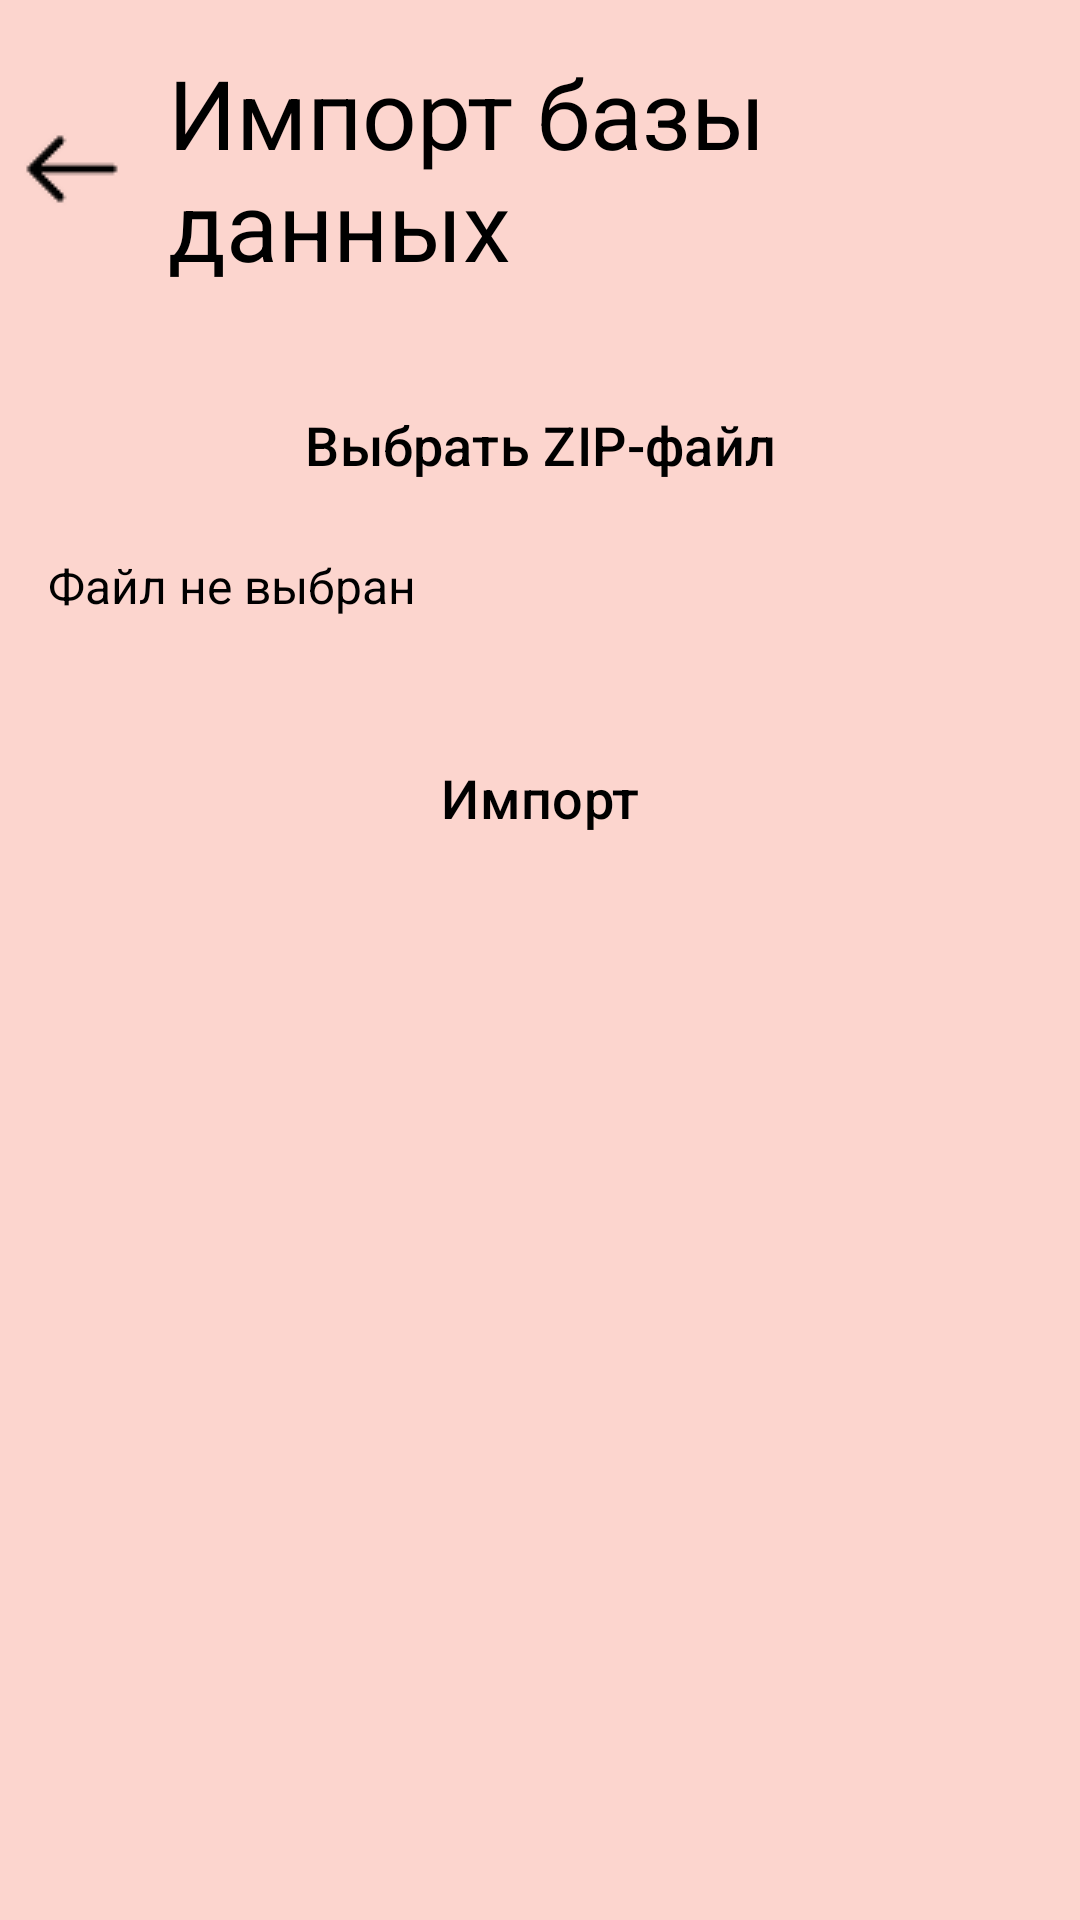

Named icons in this screenshot (1080 × 1920) and their bounding boxes, (x1, y1, x2, y2):
back: (26, 135, 118, 203)
